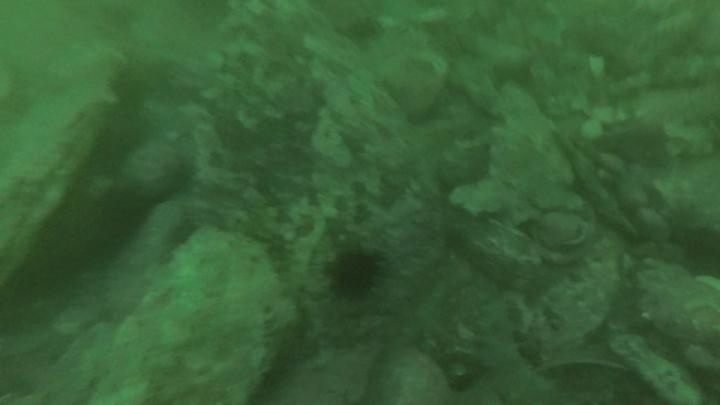echinus: (91, 185, 151, 244), (325, 247, 385, 302), (107, 64, 153, 109)
holothurian: (470, 295, 559, 404)
